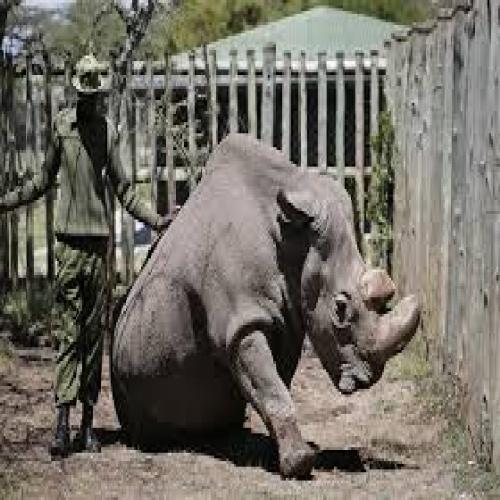rhino-endangered: (109, 137, 419, 481)
